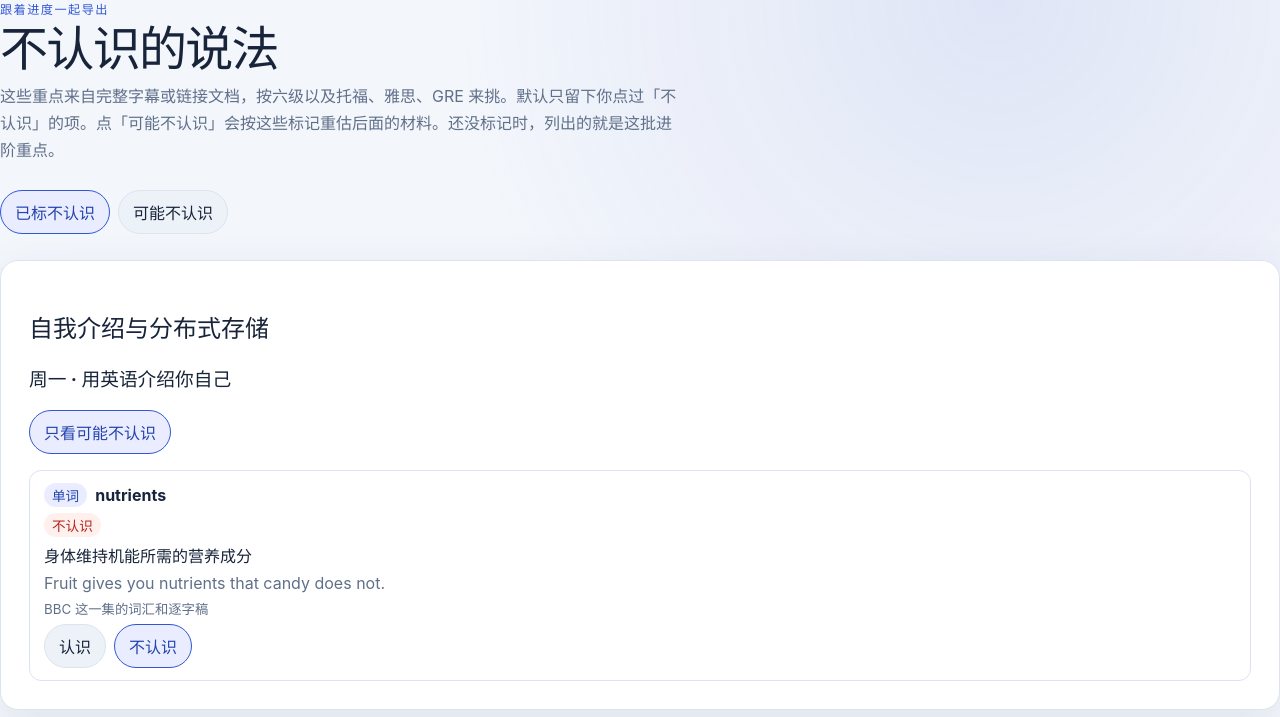
Test: caption vocabulary › groups unknown items by week and can clear a mark
Expected: the heading "自我介绍与分布式存储" is shown, [29, 314, 269, 343]
Expected: the text "nutrients" is shown, [95, 485, 166, 505]
Click the button with aria-label "nutrients 认识" at (75, 646), box [44, 624, 106, 668]
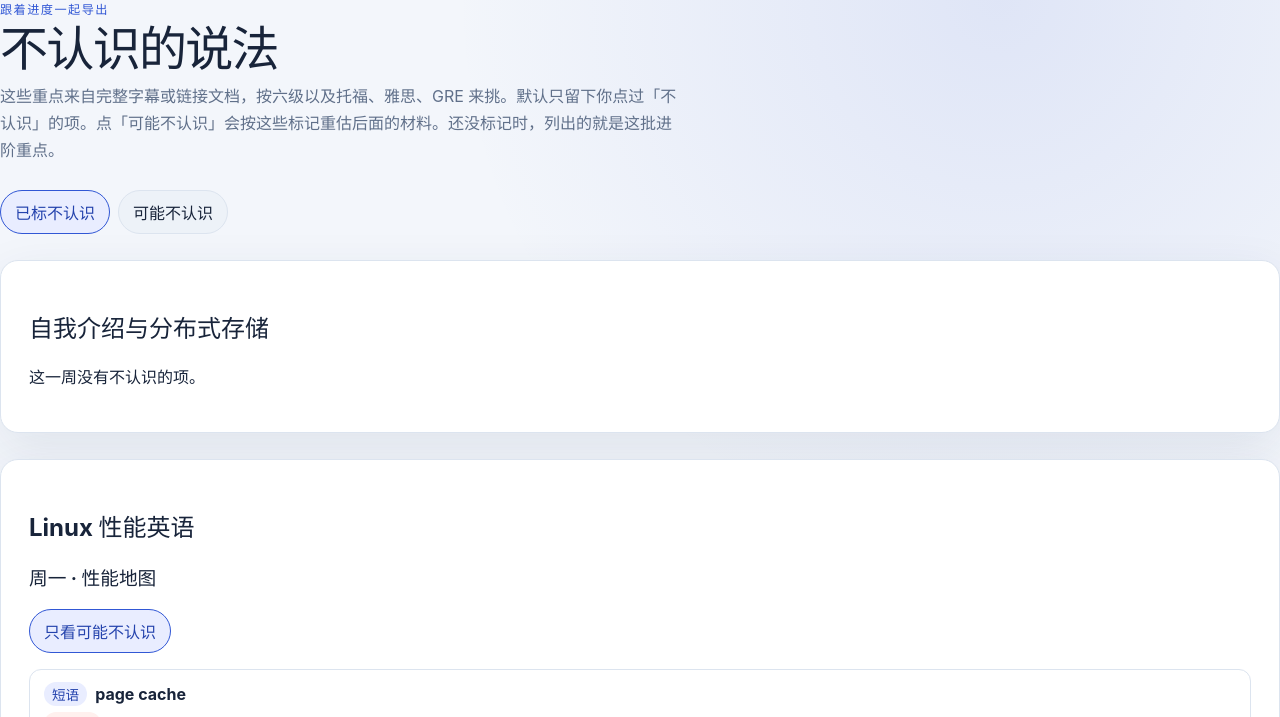
Expected: the text "nutrients" is gone
